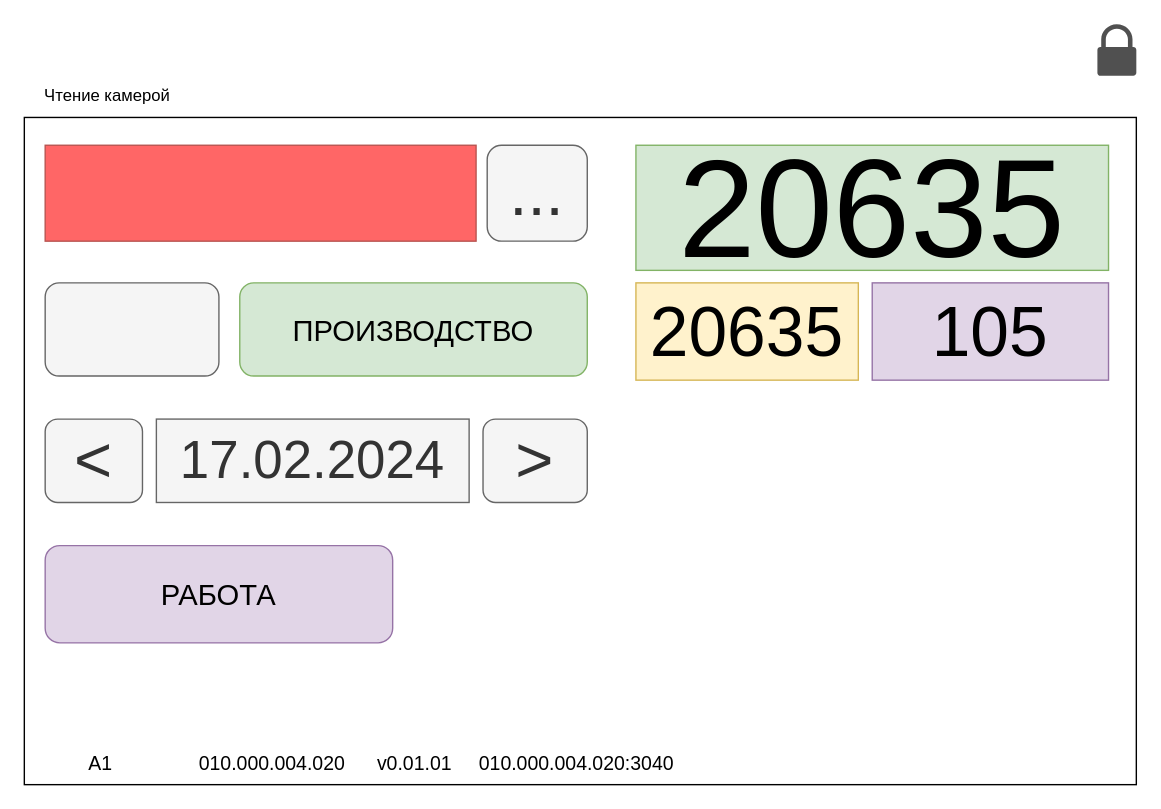
This 1161x809 diagram has some shape labels left out. The centre of each missing label's shape, as x and y in pixels:
БРАК: (131,328)
Молоко 3,5 % 1 л: (260,192)
